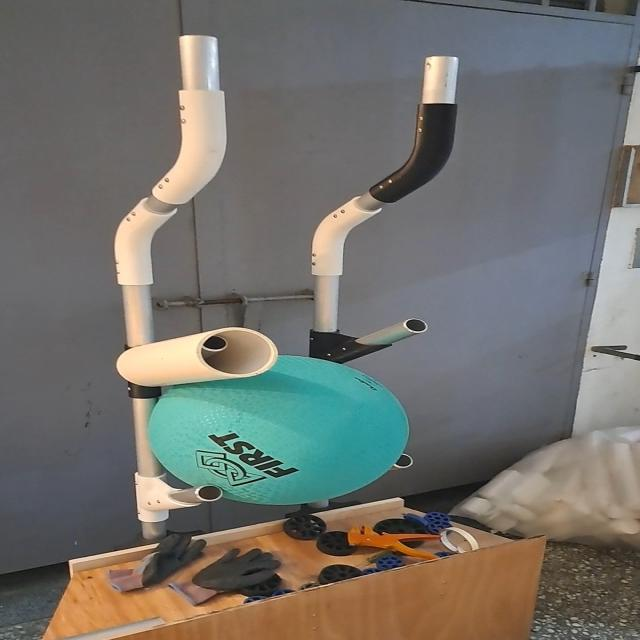ALGAE: (145, 350, 416, 508)
CORAL: (115, 322, 281, 389)
